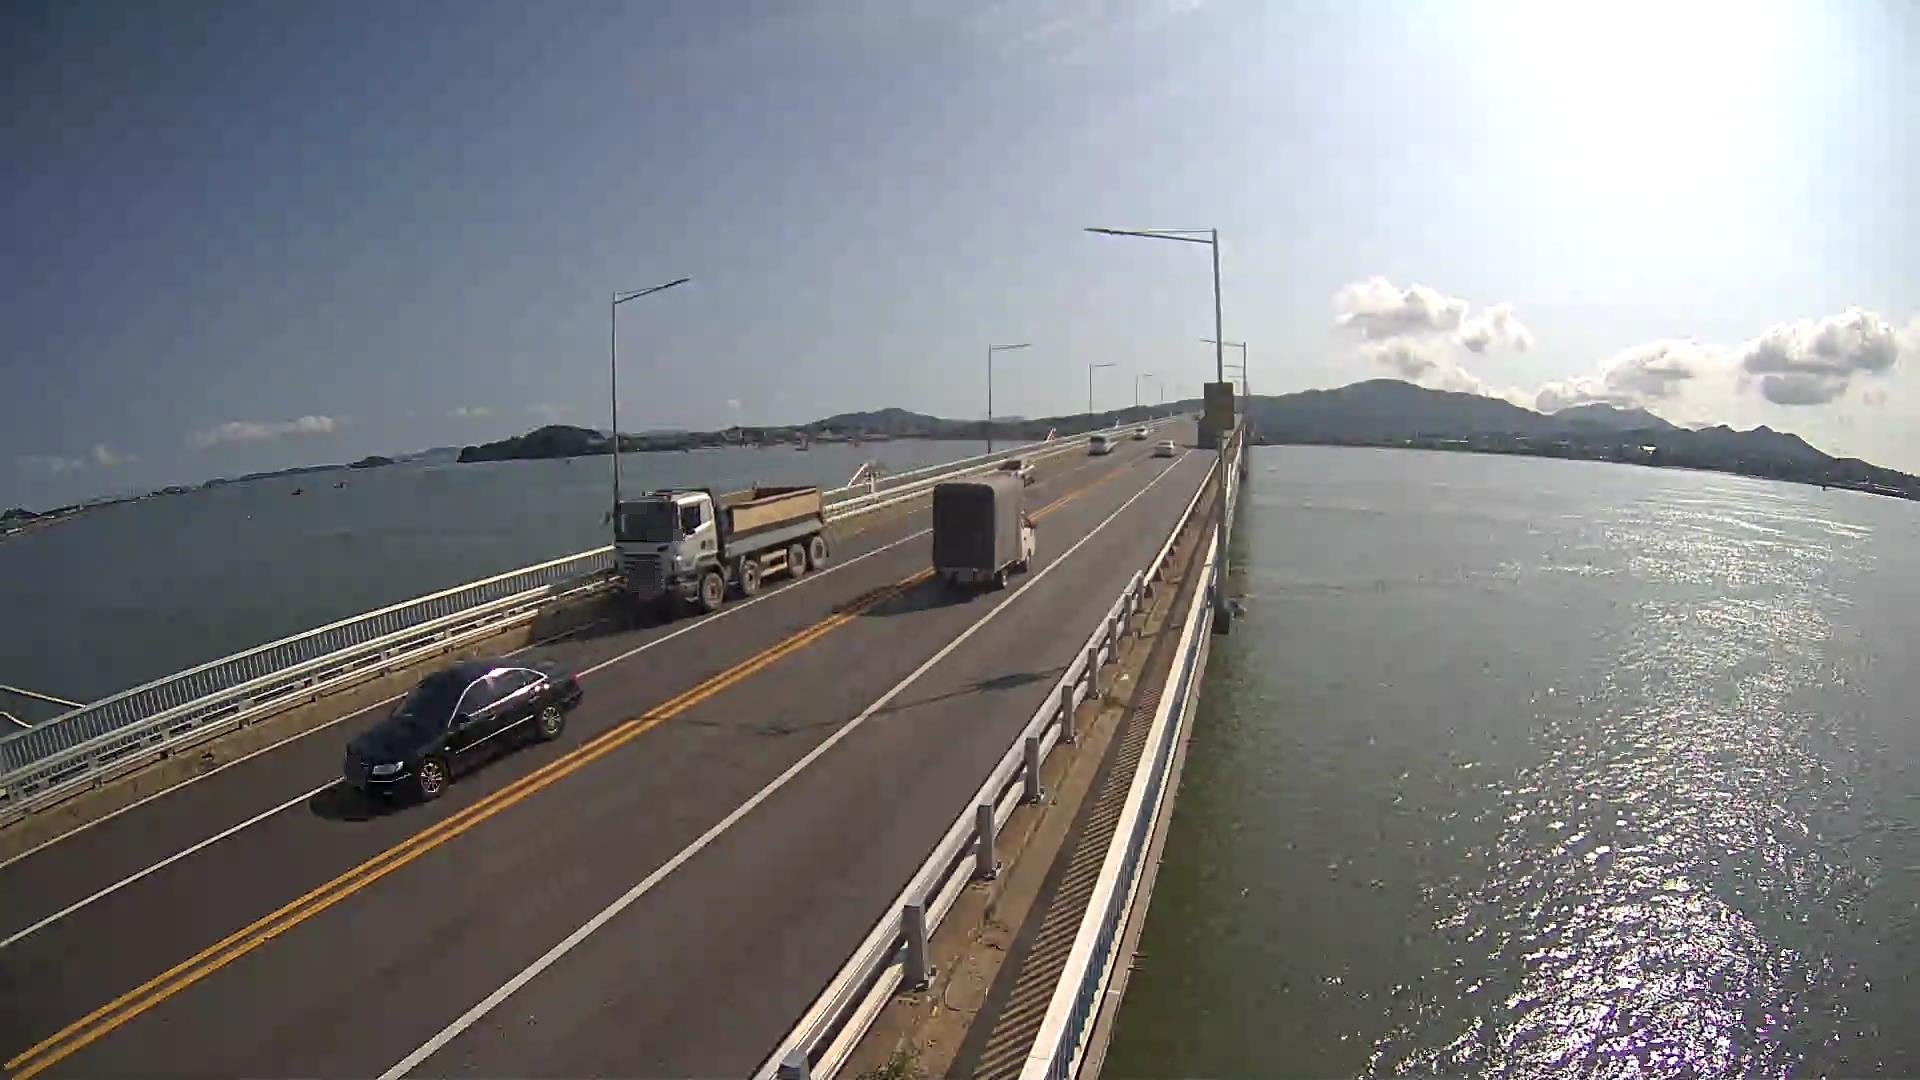정상차량: (605, 481, 829, 612)
